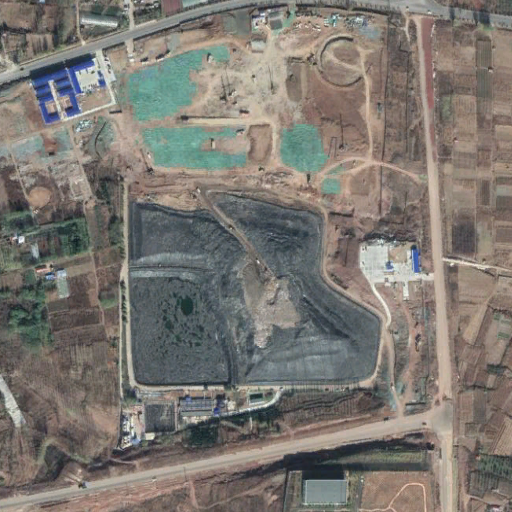lf: (122, 182, 383, 395)
